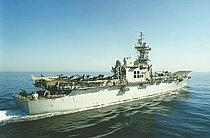MIL_Ship: (13, 32, 196, 114)
